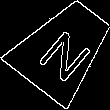N_NE: (31, 17, 96, 80)
